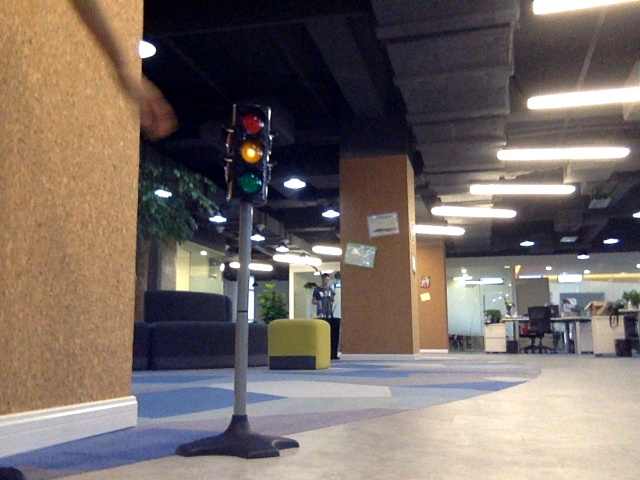yellow: (232, 105, 265, 196)
